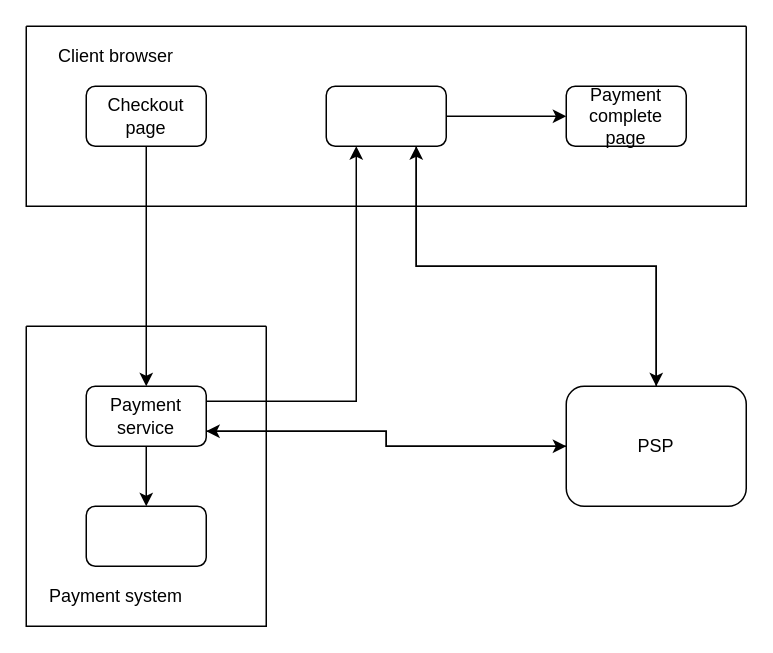
Image size: 773x653. Some labels were removed from this diagram. The shapes that lost their labels are listed below. From the top down, each one's centre as x and y in pixels, then its label:
pixel 385 115: Payment page
pixel 145 535: DB
